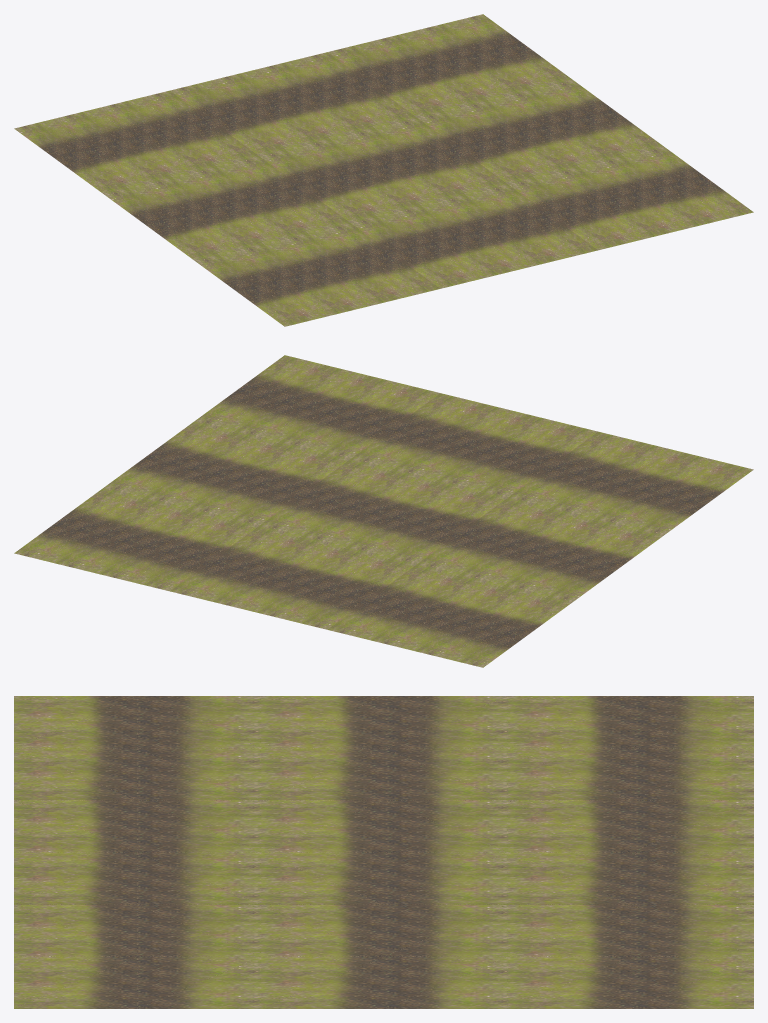
Rendered from floor.dae.
3 views of the same model, one above another, from view 1: azimuth 30°, elevation 25°; view 2: azimuth 150°, elevation 25°; view 3: azimuth 270°, elevation 25° (orthographic). The views are drawn at different scales.
Parts seen in each view (by area): view 1: Plane.000; view 2: Plane.000; view 3: Plane.000.
Boxes of the visible parts, x1,y1,x2,y2 form: Plane.000: (14,14,753,326); Plane.000: (14,355,753,667); Plane.000: (14,696,753,1008).
Bounding box in the file's own units: 33.04 × 33.04 × 0.
